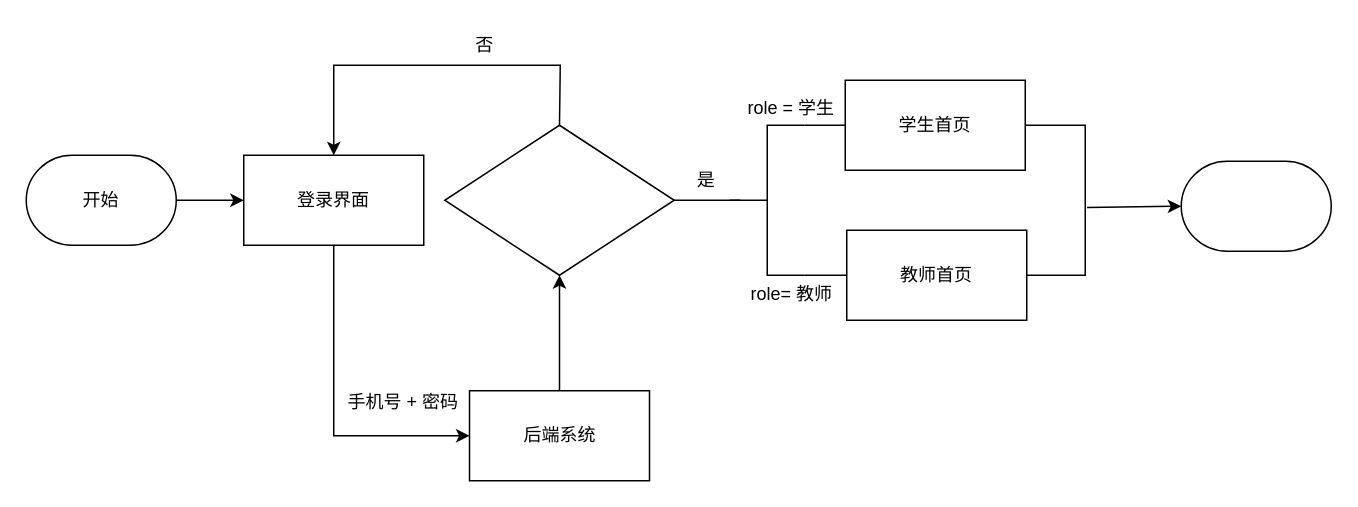
The diagram is 1358 pixels wide and 507 high, and some of its shapes have lost their labels. The shapes that lost their labels are listed below. From the top down, each one's box as (x1, y1, x2, y2) in pixels, then its label:
(443, 124, 674, 275): 手机号密码是否正确
(1180, 160, 1331, 251): 结束
